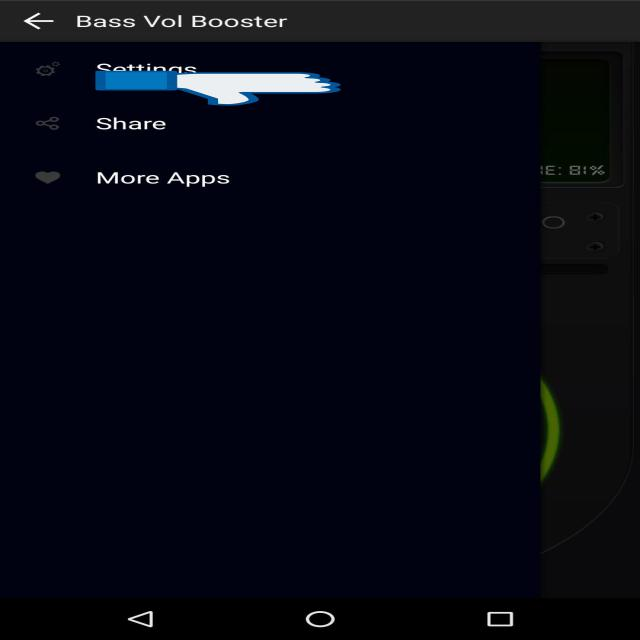obstruction: (95, 70, 341, 106)
